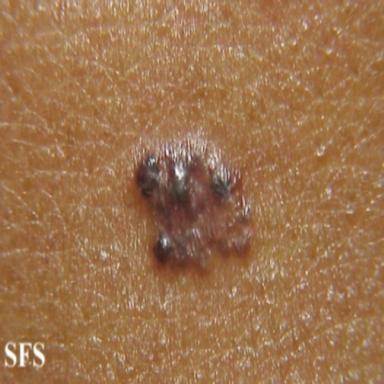basal-cell-carcinoma: (135, 134, 253, 269)
